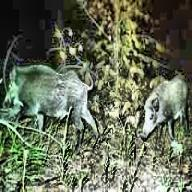boar: (138, 72, 190, 154)
